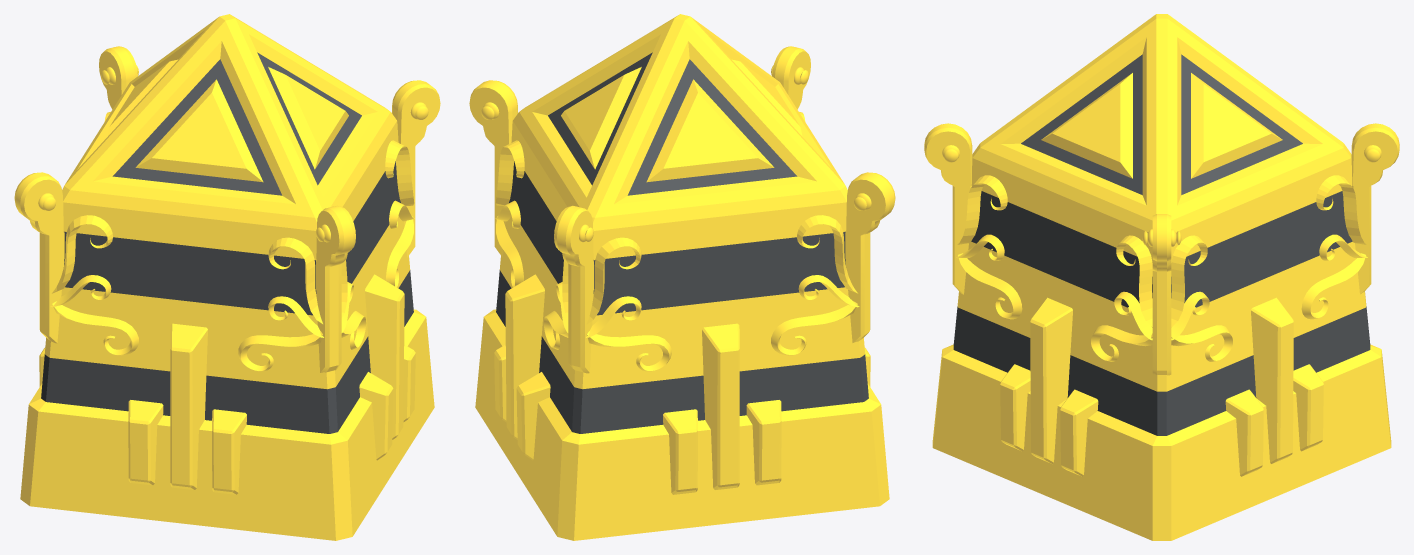
File: religious_sarcophagus_small.fbx
3 renders of one model, left to right at view 1: azimuth 30°, elevation 25°; view 2: azimuth 150°, elevation 25°; view 3: azimuth 270°, elevation 25°, orthographic.
Visible parts, largest first — view 1: block_1, pCube164, pCylinder101, pCylinder100, pCube120 (×2), pCube163, swirl3 (×4), pCube121 (×2), pCylinder103, pCylinder102, swirl2 (×2), swirls58 (+2 smaller); view 2: block_1, pCube165, pCylinder101, pCylinder102, pCube121 (×2), pCube166, swirl3 (×4), pCube120 (×2), pCylinder103, swirls46 (×2), pCylinder100, swirl2 (×2) (+1 smaller); view 3: block_1, pCube166, pCube163, pCube120 (×2), pCube121 (×2), swirl3 (×4), pCylinder100, pCylinder102, pCylinder103, swirls46 (×2), swirl2 (×2), swirls1 (+1 smaller).
Part boxes in pixels (<box>): block_1: <box>20,14,434,540</box>; pCube164: <box>170,323,207,489</box>; pCylinder101: <box>14,172,64,343</box>; pCylinder100: <box>316,205,355,372</box>; pCube120 (×2): <box>128,372,393,485</box>; pCube163: <box>365,274,404,439</box>; swirl3 (×4): <box>52,216,413,371</box>; pCube121 (×2): <box>212,344,415,494</box>; pCylinder103: <box>392,80,440,257</box>; pCylinder102: <box>99,46,137,109</box>; swirl2 (×2): <box>50,275,323,337</box>; swirls58: <box>268,237,322,323</box>; block_1: <box>475,14,889,540</box>; pCube165: <box>702,323,739,489</box>; pCylinder101: <box>845,172,895,342</box>; pCylinder102: <box>554,205,593,373</box>; pCube121 (×2): <box>516,372,781,485</box>; pCube166: <box>505,274,544,439</box>; swirl3 (×4): <box>496,216,857,371</box>; pCube120 (×2): <box>494,344,697,494</box>; pCylinder103: <box>469,80,517,257</box>; swirls46 (×2): <box>495,140,641,323</box>; pCylinder100: <box>772,46,810,109</box>; swirl2 (×2): <box>586,275,859,337</box>; block_1: <box>932,14,1391,540</box>; pCube166: <box>1251,297,1293,463</box>; pCube163: <box>1030,297,1072,463</box>; pCube120 (×2): <box>1000,364,1263,476</box>; pCube121 (×2): <box>1060,364,1323,476</box>; swirl3 (×4): <box>958,253,1365,361</box>; pCylinder100: <box>924,123,972,294</box>; pCylinder102: <box>1351,123,1399,294</box>; pCylinder103: <box>1152,214,1171,375</box>; swirls46 (×2): <box>957,175,1207,326</box>; swirl2 (×2): <box>1114,291,1209,340</box>; swirls1: <box>1116,235,1152,326</box>.
Bounding box in the file's own units: 3.52 × 3.5 × 3.52.
